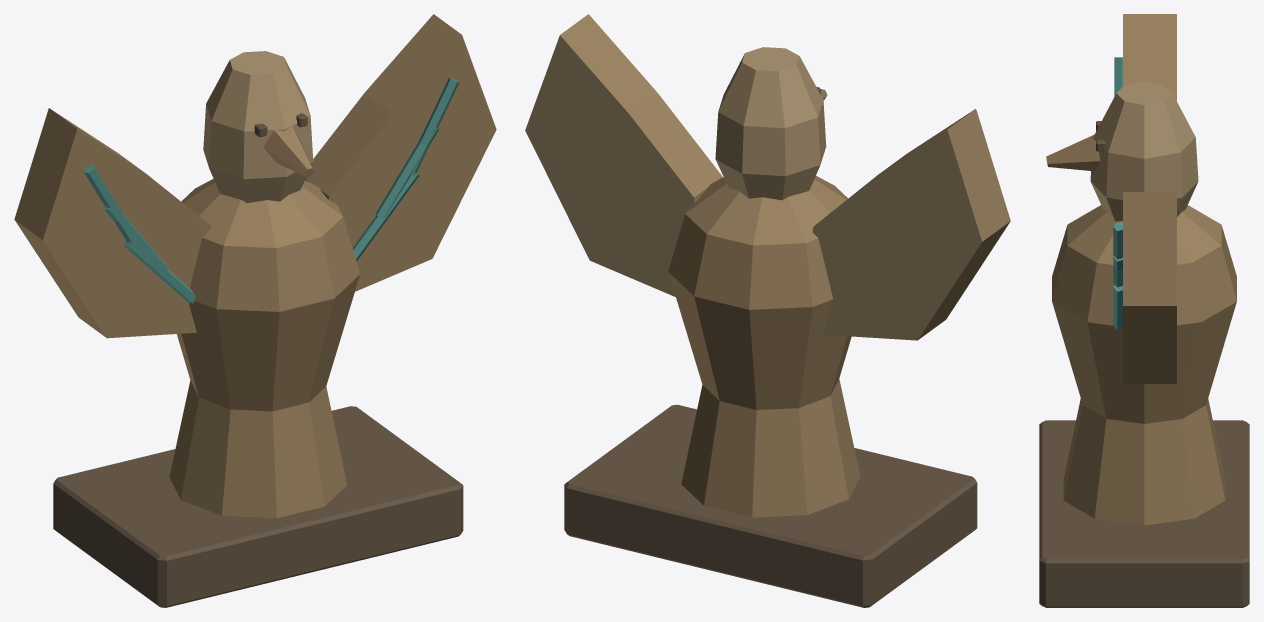
File: wing-guardian.glb
3 renders of one model, left to right at view 1: azimuth 30°, elevation 25°; view 2: azimuth 150°, elevation 25°; view 3: azimuth 270°, elevation 25°, orthographic. The views are drawn at different scales.
Visible parts, largest first — view 1: wing-guardian__body; view 2: wing-guardian__body; view 3: wing-guardian__body.
Boxes of the visible parts, x1=… form: wing-guardian__body: x1=14, y1=14, x2=496, y2=607; wing-guardian__body: x1=525, y1=14, x2=1010, y2=607; wing-guardian__body: x1=1039, y1=14, x2=1249, y2=607.
Bounding box in the file's own units: 0.92 × 0.91 × 0.39.
